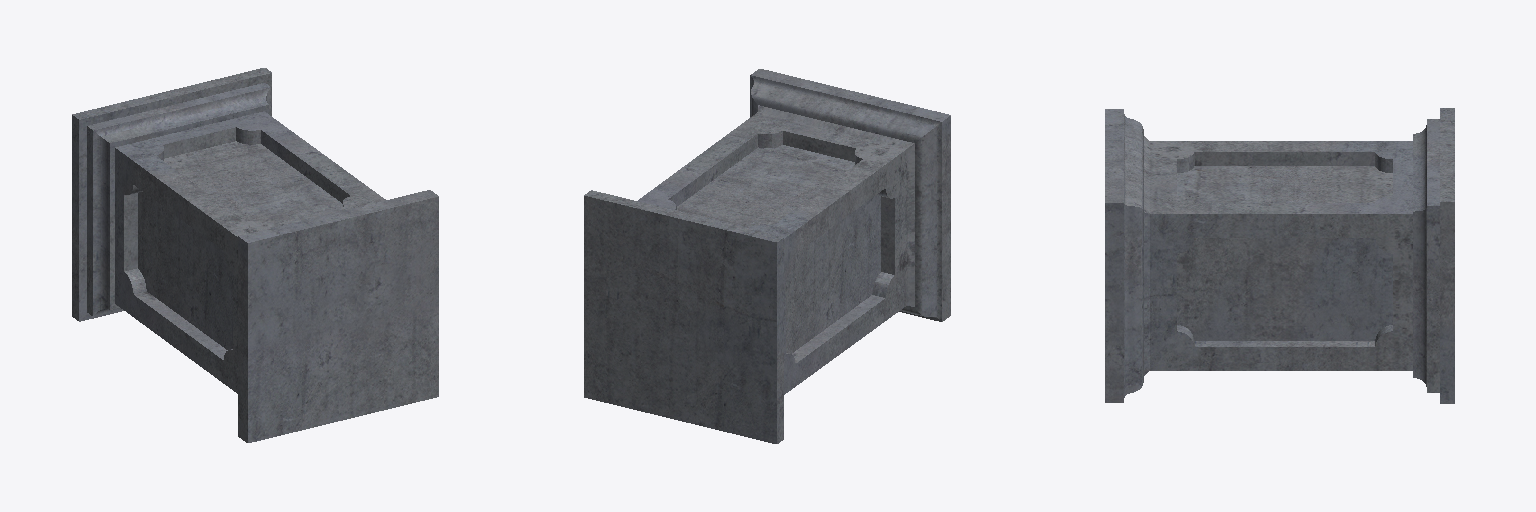
3 views of the same model, side by side, from view 1: azimuth 30°, elevation 25°; view 2: azimuth 150°, elevation 25°; view 3: azimuth 270°, elevation 25° (orthographic).
Parts seen in each view (by area): view 1: 10421_square_pedastal_v1; view 2: 10421_square_pedastal_v1; view 3: 10421_square_pedastal_v1.
Boxes of the visible parts, <box> form: 10421_square_pedastal_v1: <box>72,68,438,442</box>; 10421_square_pedastal_v1: <box>584,69,950,443</box>; 10421_square_pedastal_v1: <box>1105,108,1454,403</box>.
Bounding box in the file's own units: 53.26 × 53.25 × 83.63.
Materials: 1 (1 with a texture image).